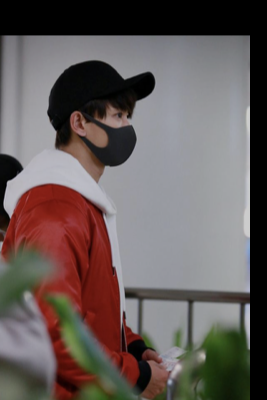with_mask: (91, 108, 138, 169)
